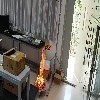fire: (36, 46, 45, 89)
